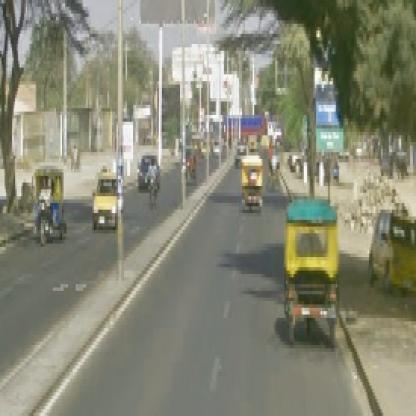Pista: (48, 153, 373, 414), (3, 146, 229, 383)
Vehiculo: (285, 201, 340, 349), (33, 167, 65, 245), (92, 173, 119, 234), (242, 157, 264, 214)
